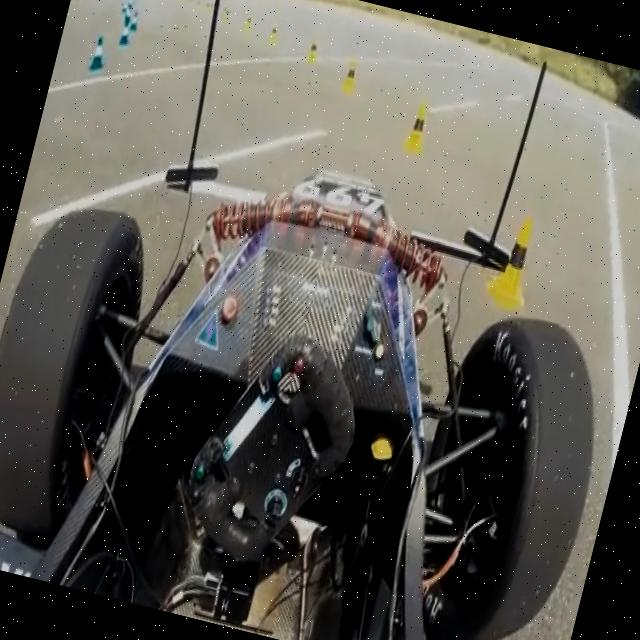blue_cone: (83, 29, 111, 75), (117, 21, 133, 47), (119, 5, 134, 29), (127, 10, 141, 33)
yellow_cone: (484, 213, 546, 316), (399, 97, 436, 161), (338, 58, 364, 100), (303, 38, 322, 66)
